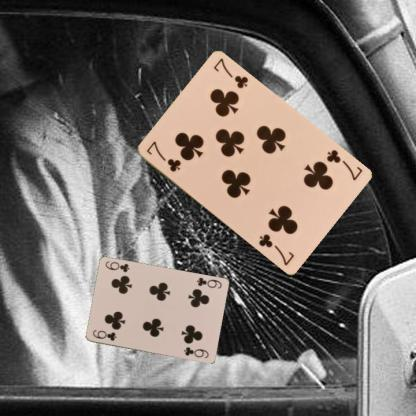6c: (194, 275, 223, 290), (90, 327, 117, 342)
7c: (324, 147, 364, 182), (143, 138, 182, 173)
